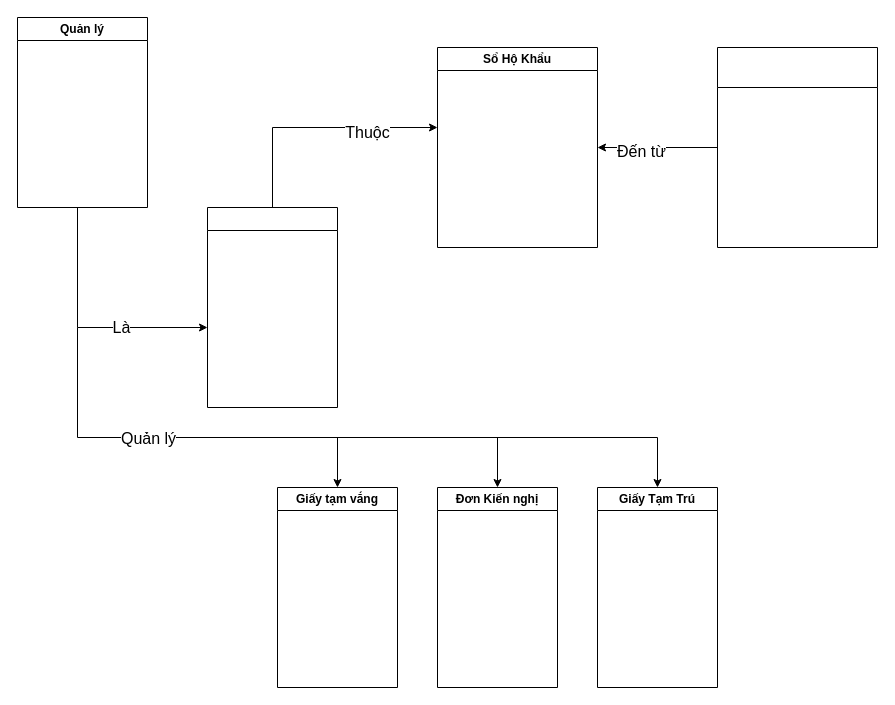
This 895x705 diagram has some shape labels left out. Each missing label, with the centre of its shape:
"Các hoạt động biến đối nhân khẩu" belongs at (x=797, y=147).
"Nhân khẩu (Person)" belongs at (x=272, y=307).
